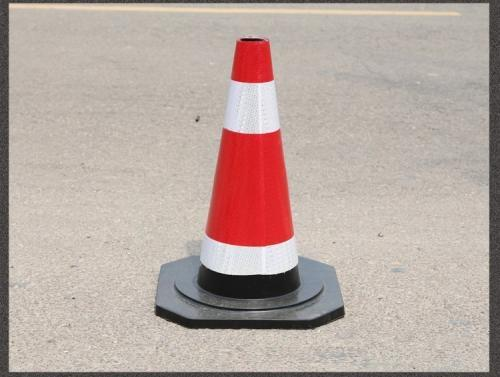cone_barrel: (186, 35, 312, 309)
